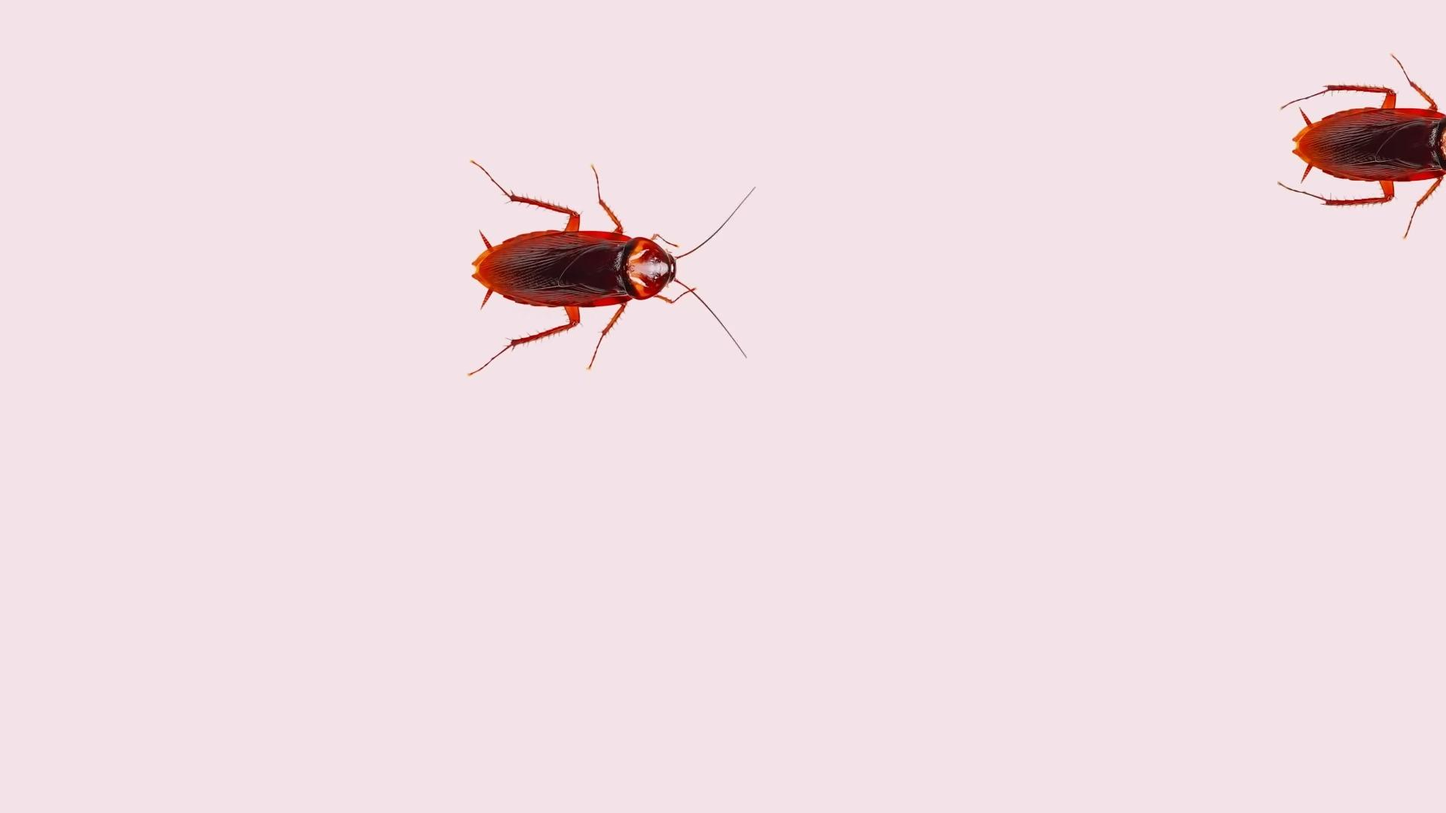cockroach: (465, 160, 750, 375)
